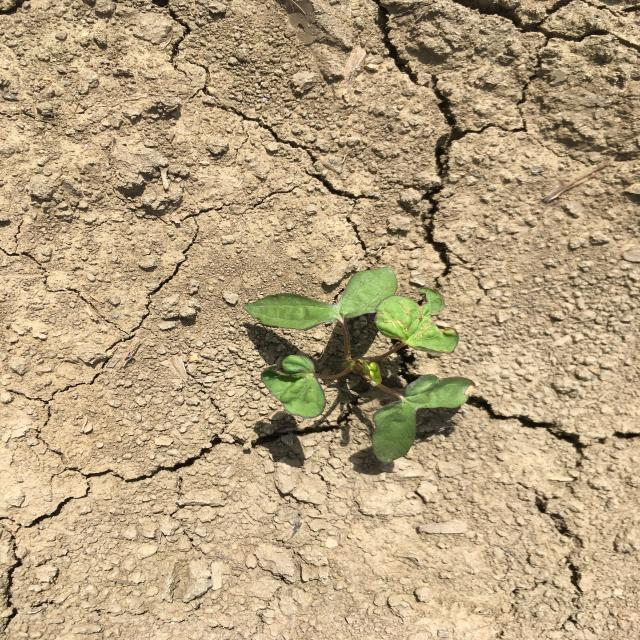MorningGlory: (244, 267, 476, 464)
